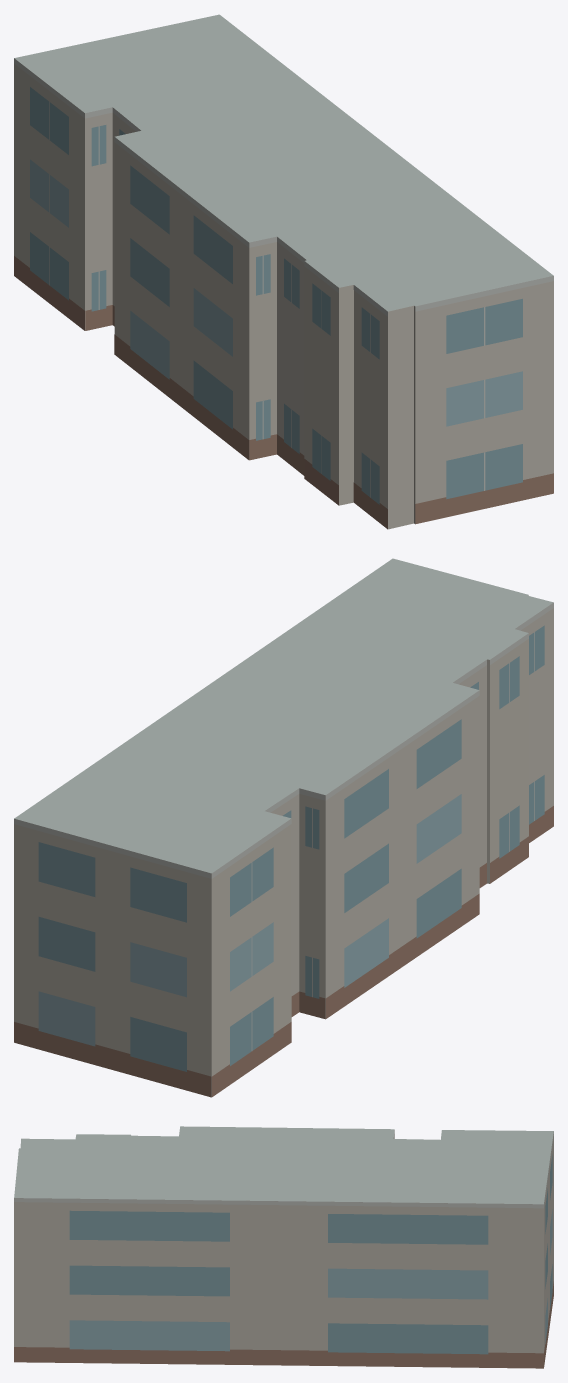
Rendered from survey-upis-32644807.glb.
The picture shows the model from 3 angles, top to bottom: view 1: azimuth 30°, elevation 25°; view 2: azimuth 150°, elevation 25°; view 3: azimuth 270°, elevation 25°; orthographic projection. The views are drawn at different scales.
Visible parts, largest first — view 1: survey-upis-32644807.tmp; view 2: survey-upis-32644807.tmp; view 3: survey-upis-32644807.tmp.
Part boxes in pixels (box(x1,y1,x2,y2)): survey-upis-32644807.tmp: box(14, 14, 553, 529); survey-upis-32644807.tmp: box(14, 558, 553, 1097); survey-upis-32644807.tmp: box(14, 1126, 553, 1368).
Bounding box in the file's own units: 10.18 × 10 × 29.8.
